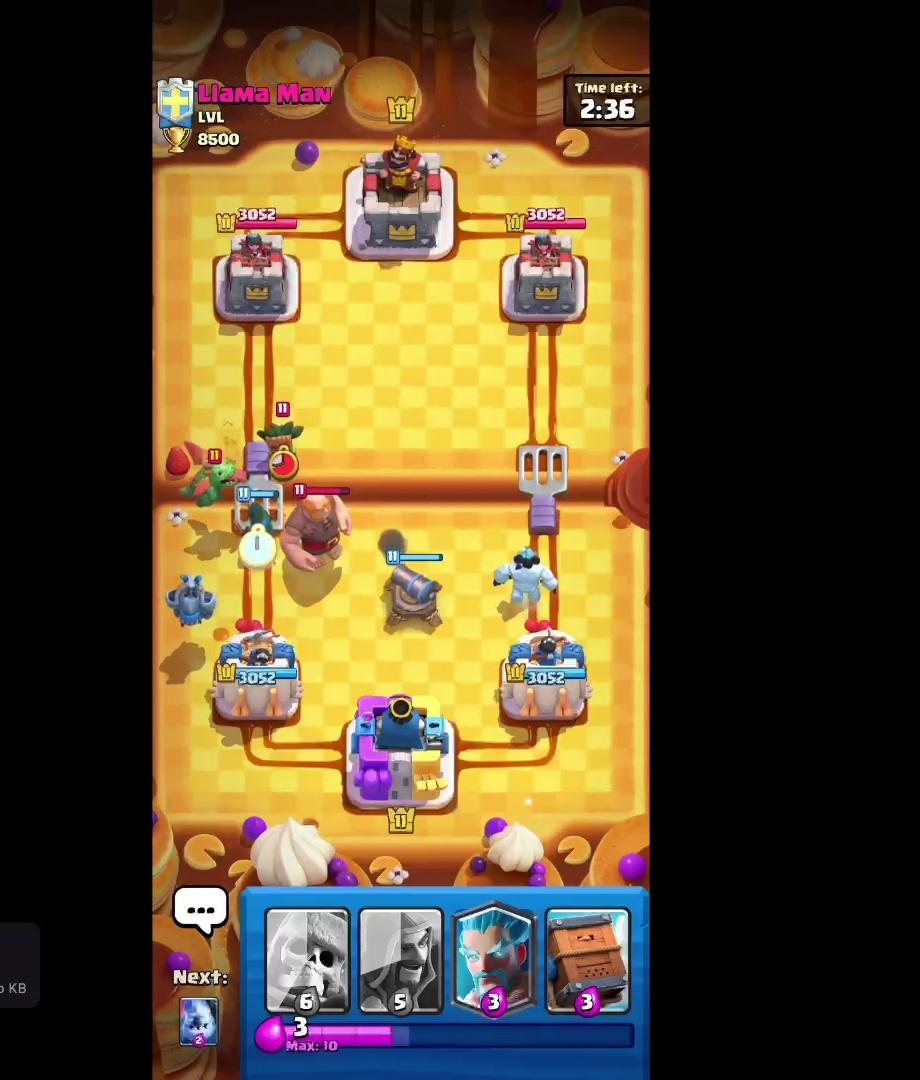Baby Dragon: (183, 446, 247, 514)
Giant: (283, 471, 362, 583)
